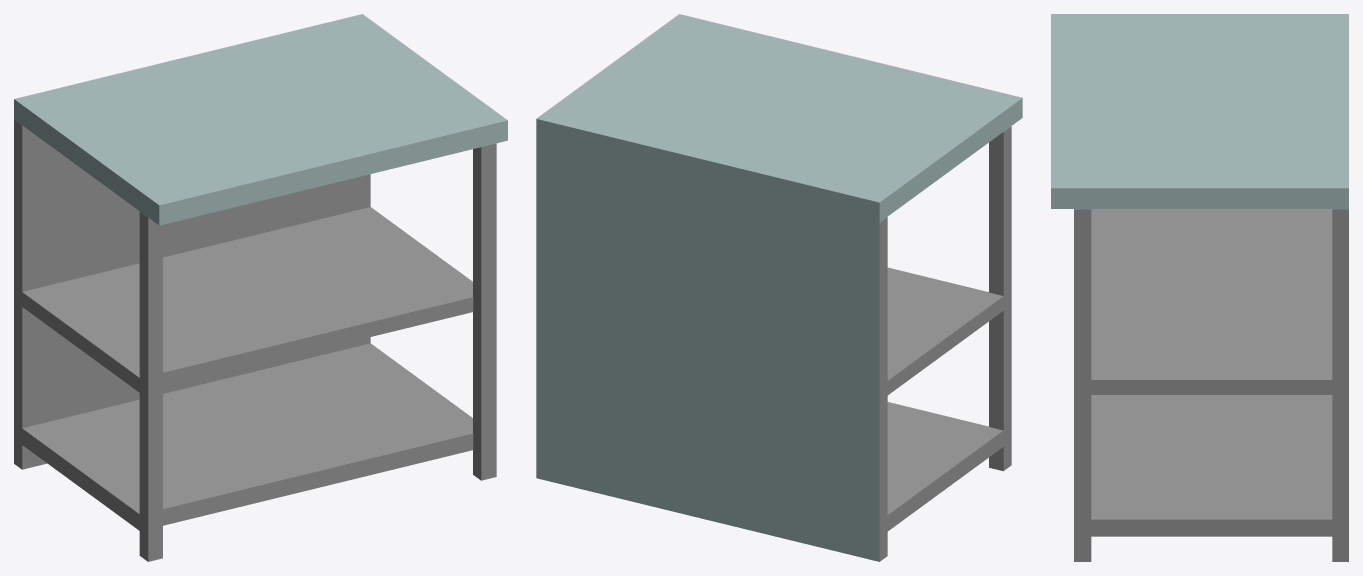
The model's file is CounterBasic03Combo.fbx.
The picture shows the model from 3 angles, left to right: view 1: azimuth 30°, elevation 25°; view 2: azimuth 150°, elevation 25°; view 3: azimuth 270°, elevation 25°; orthographic projection. The views are drawn at different scales.
Visible parts, largest first — view 1: polySurface6, polySurface1; view 2: polySurface5, polySurface1, polySurface6; view 3: polySurface6, polySurface1.
Part boxes in pixels (x1,y1,x2,y2): polySurface6: [14, 120, 496, 561]; polySurface1: [14, 14, 507, 225]; polySurface5: [536, 139, 879, 561]; polySurface1: [536, 14, 1022, 222]; polySurface6: [879, 126, 1011, 561]; polySurface6: [1074, 209, 1348, 561]; polySurface1: [1051, 14, 1348, 209].
Size of the model in its own units: 900 by 900 by 650.
